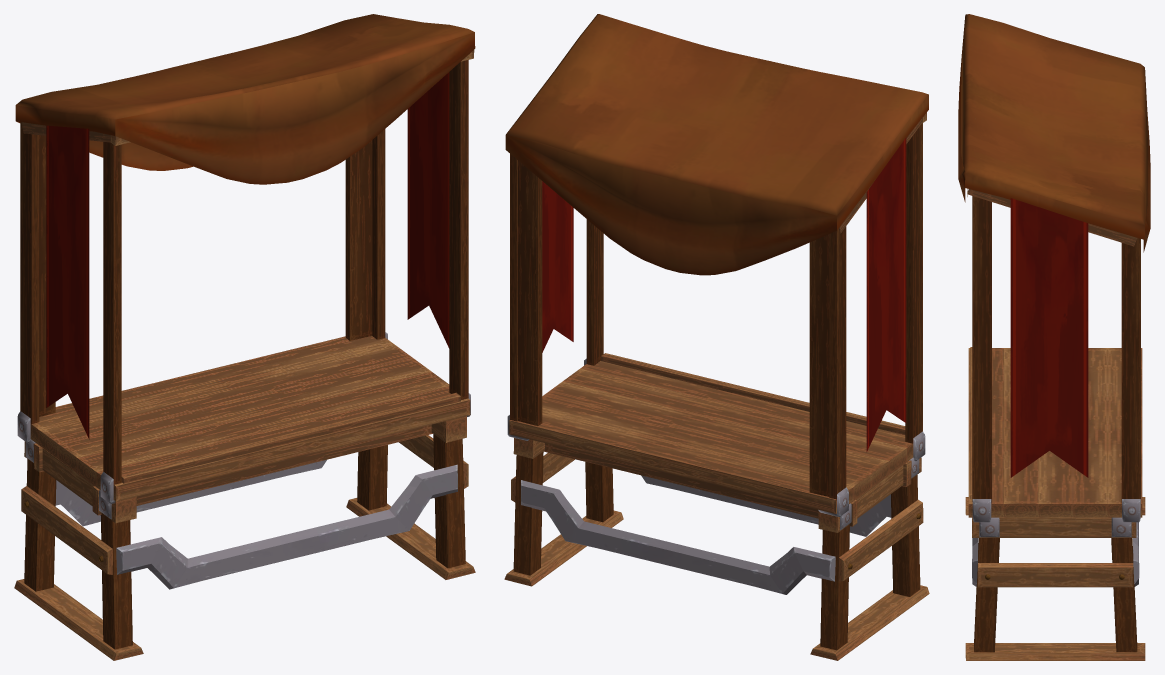
The model's file is Stall_Empty.gltf.
The picture shows the model from 3 angles, left to right: view 1: azimuth 30°, elevation 25°; view 2: azimuth 150°, elevation 25°; view 3: azimuth 270°, elevation 25°; orthographic projection. The views are drawn at different scales.
Parts seen in each view (by area): view 1: Stall_Empty; view 2: Stall_Empty; view 3: Stall_Empty.
Boxes of the visible parts, bbox=[...] form: Stall_Empty: bbox=[14, 14, 475, 660]; Stall_Empty: bbox=[504, 14, 929, 660]; Stall_Empty: bbox=[958, 14, 1150, 660].
Size of the model in its own units: 1.84 by 2.63 by 0.9323.
3 materials, 3 textured.
